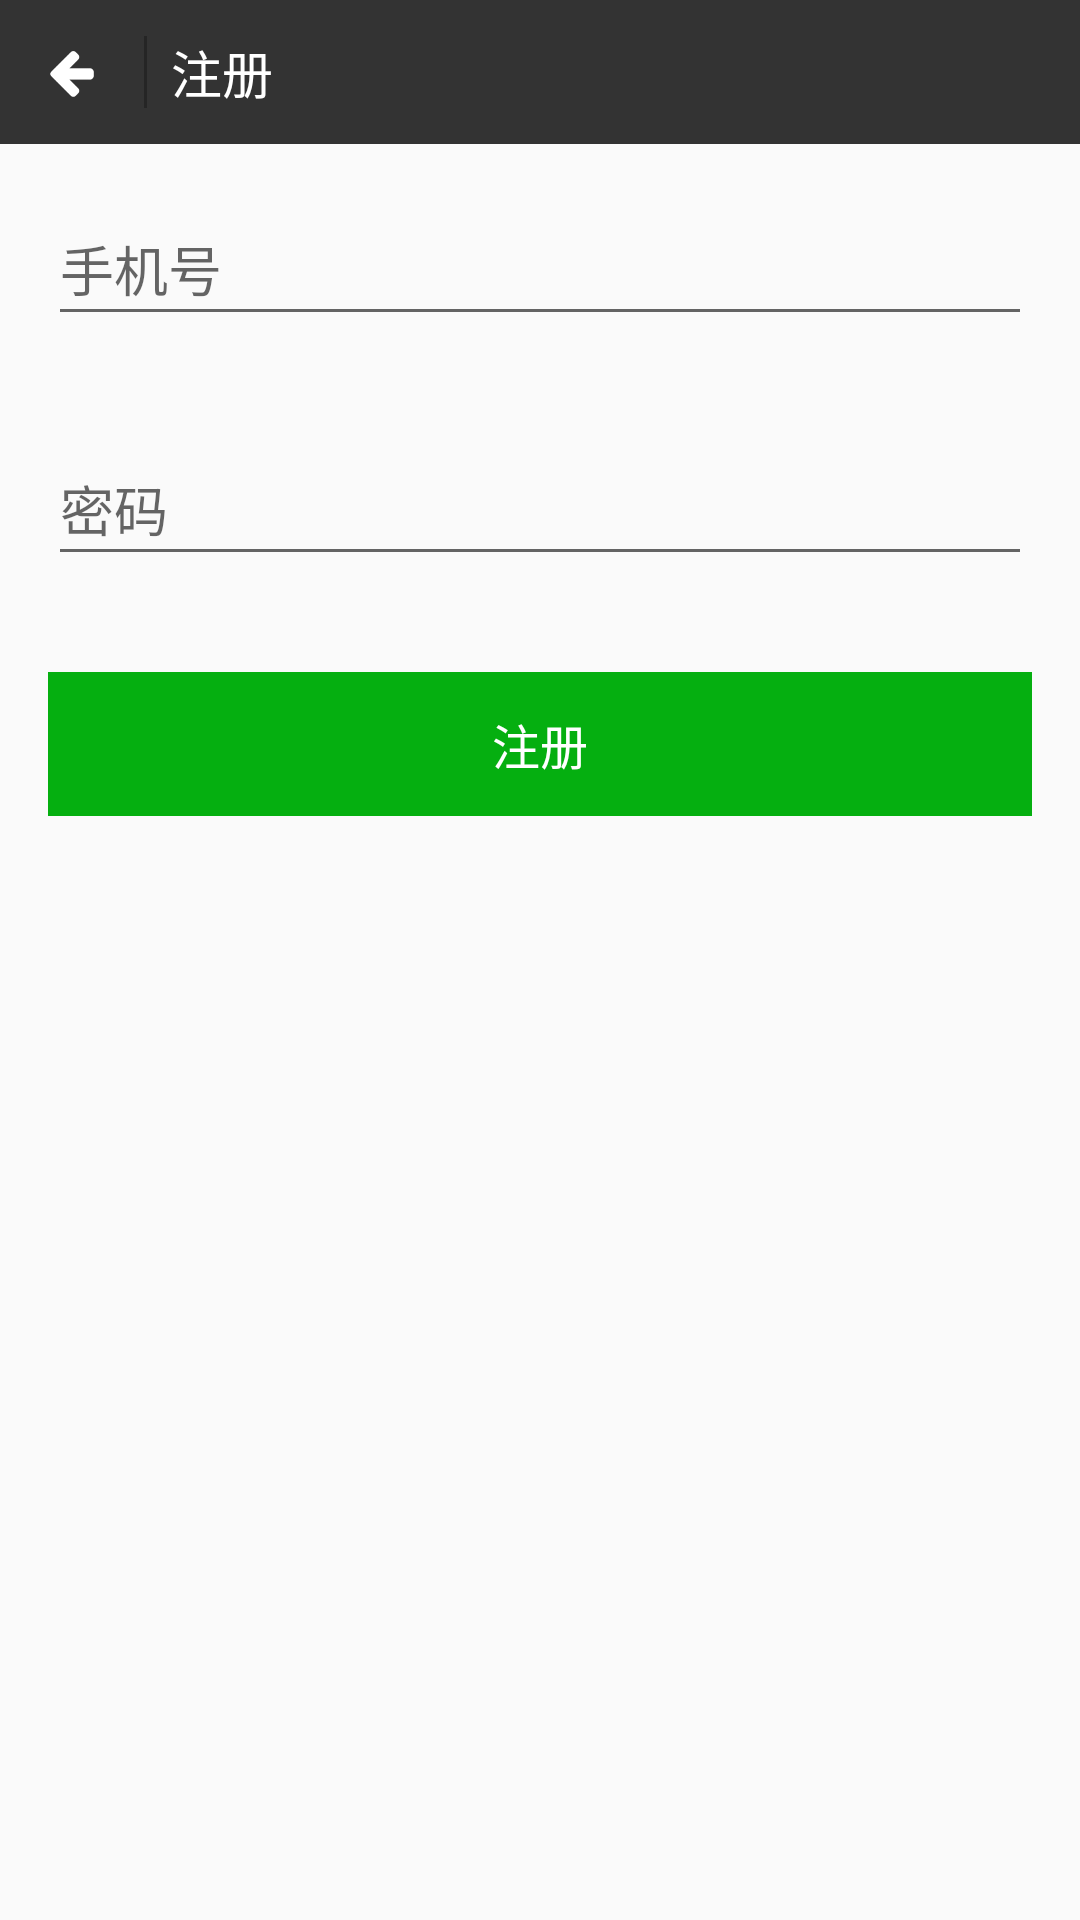

Screen size 1080×1920. Icon name, then its box in pixels as (x1, y1, x2, y2):
back: (50, 51, 94, 97)
